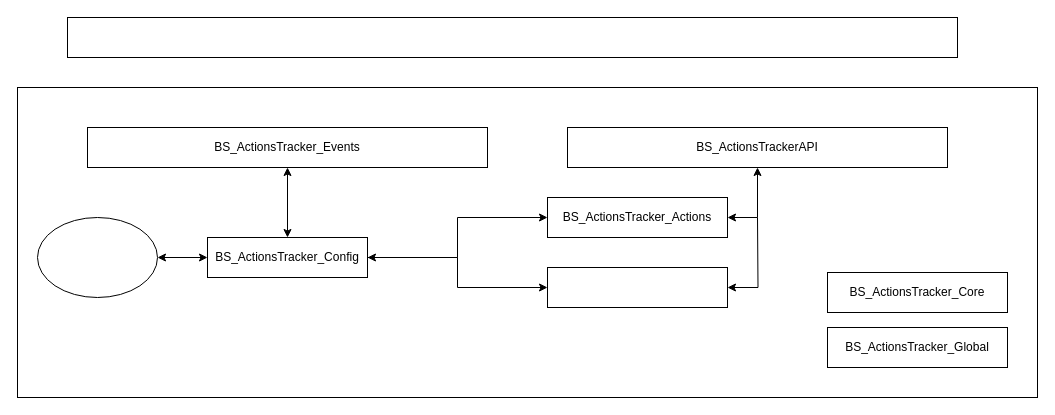
Some shapes in this 1055 by 415 pixel diagram are drawn without their labels. Each missing label, with the centre of its shape:
"Blizzard API" belongs at [512,37].
"BS_ActionsTracker_UI" belongs at [637,287].
"SavedVaraiables" belongs at [97,257].
